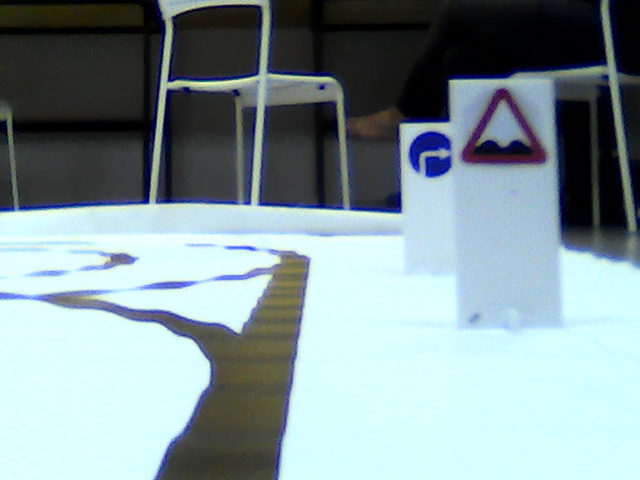Nerov: (459, 85, 549, 167)
Right: (410, 131, 450, 174)
